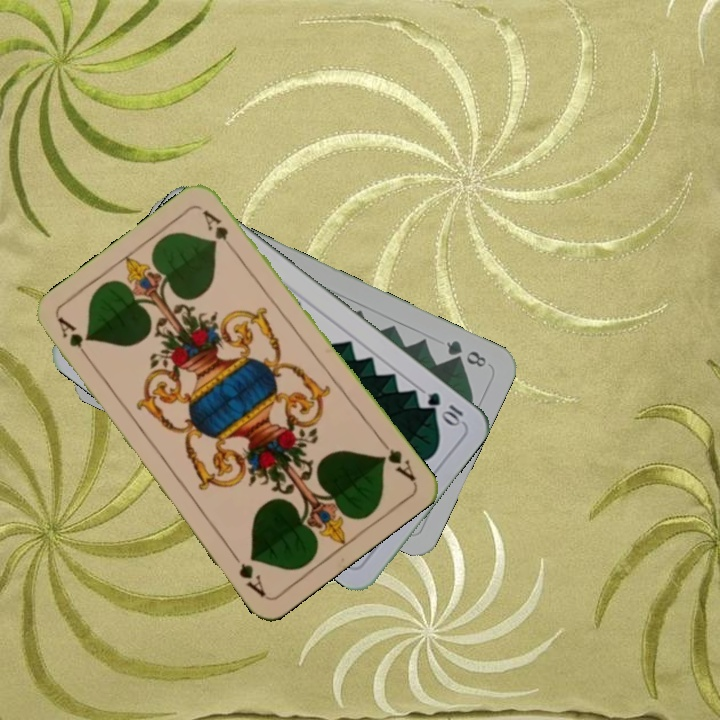G10: (423, 388, 466, 428)
G8: (442, 336, 489, 370)
GA: (375, 434, 418, 484), (54, 313, 94, 366)
